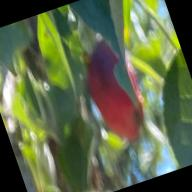Apples: (74, 32, 156, 149)
